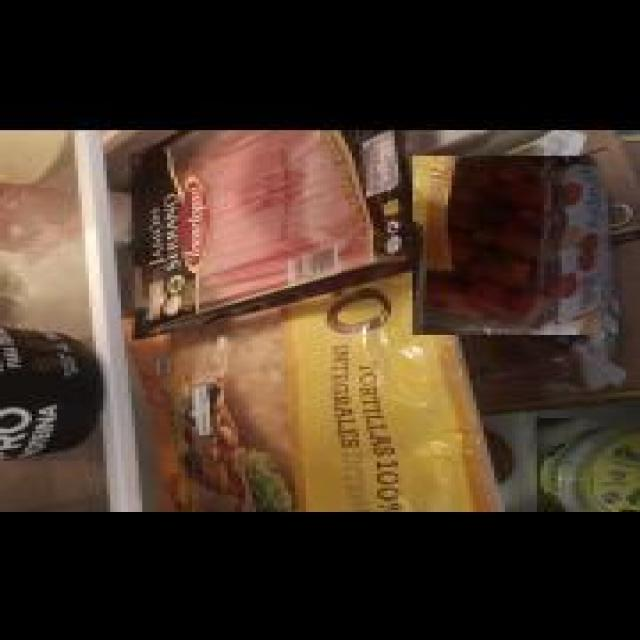guacamole: (537, 416, 640, 512)
tomato: (412, 154, 601, 332)
tortillas: (130, 218, 500, 508)
